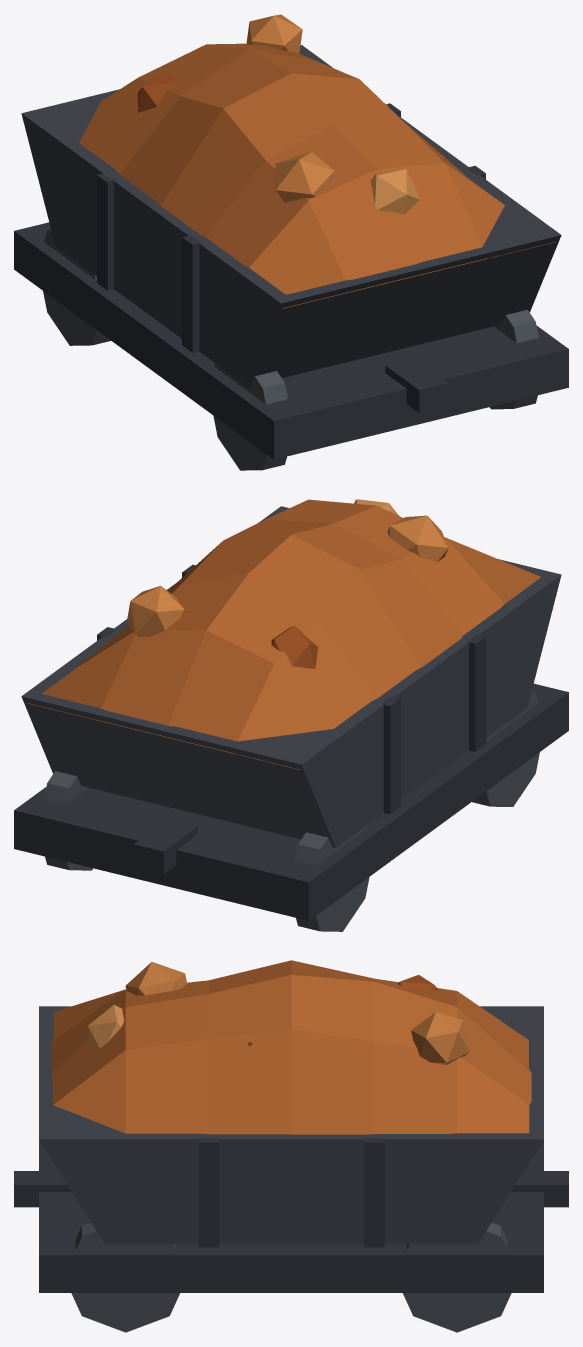
Rendered from wagon_copper.glb.
3 views of the same model, one above another, from view 1: azimuth 30°, elevation 25°; view 2: azimuth 150°, elevation 25°; view 3: azimuth 270°, elevation 25° (orthographic). The views are drawn at different scales.
Parts seen in each view (by area): view 1: wagon_copper; view 2: wagon_copper; view 3: wagon_copper.
Boxes of the visible parts, box(x1,y1,x2,y2) form: wagon_copper: box(14, 14, 568, 470); wagon_copper: box(14, 499, 568, 931); wagon_copper: box(14, 960, 568, 1332).
Bounding box in the file's own units: 0.8 × 0.781 × 1.34.
